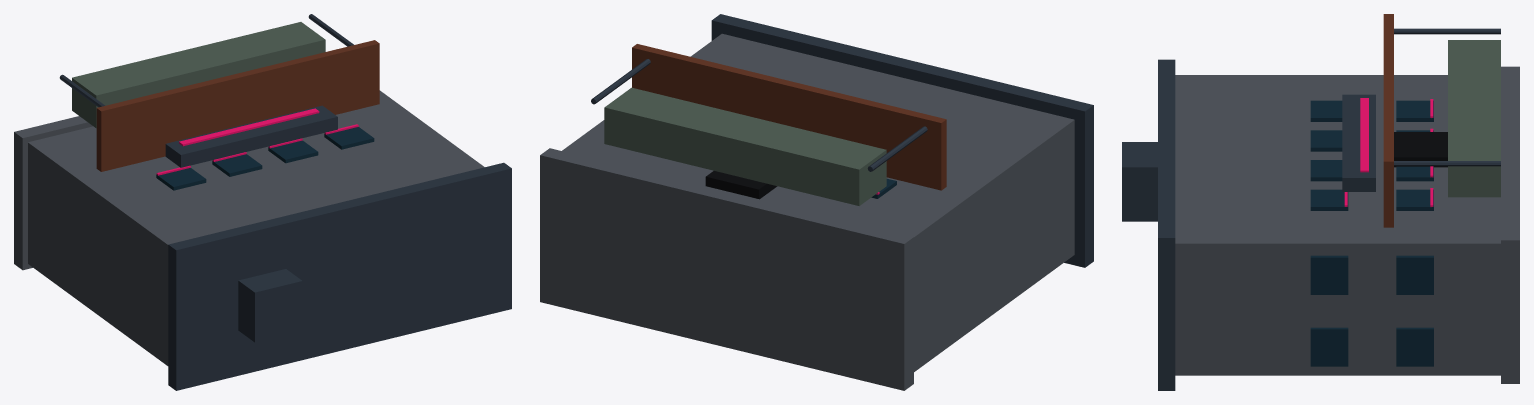
Rendered from ENV_building_market.obj.
3 renders of one model, left to right at view 1: azimuth 30°, elevation 25°; view 2: azimuth 150°, elevation 25°; view 3: azimuth 270°, elevation 25°, orthographic. The views are drawn at different scales.
Visible parts, largest first — view 1: ENV_building_market; view 2: ENV_building_market; view 3: ENV_building_market.
Boxes of the visible parts, bbox=[...] form: ENV_building_market: bbox=[14, 14, 511, 390]; ENV_building_market: bbox=[540, 14, 1093, 390]; ENV_building_market: bbox=[1122, 14, 1519, 390].
Bounding box in the file's own units: 4.92 × 2.75 × 4.64.
